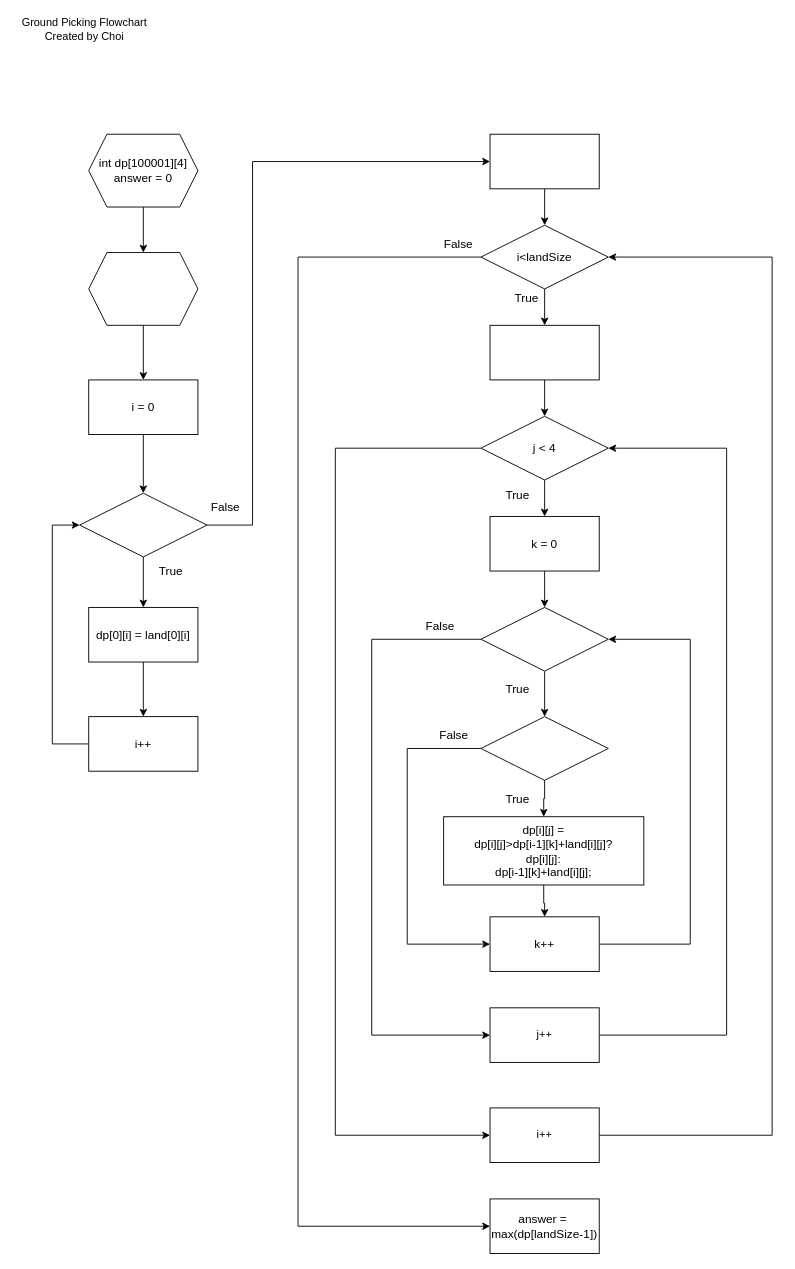
Image size: 795x1269. Some labels were removed from this diagram. Here are the shapes that lost their labels. From the top down, the box of each, then its label:
(489, 133, 599, 189): i = 1
(88, 252, 198, 325): int landSize = land.size()
(489, 324, 599, 380): j = 0
(79, 492, 207, 557): i < 4
(480, 607, 608, 671): k < 4
(480, 716, 608, 780): j != k
